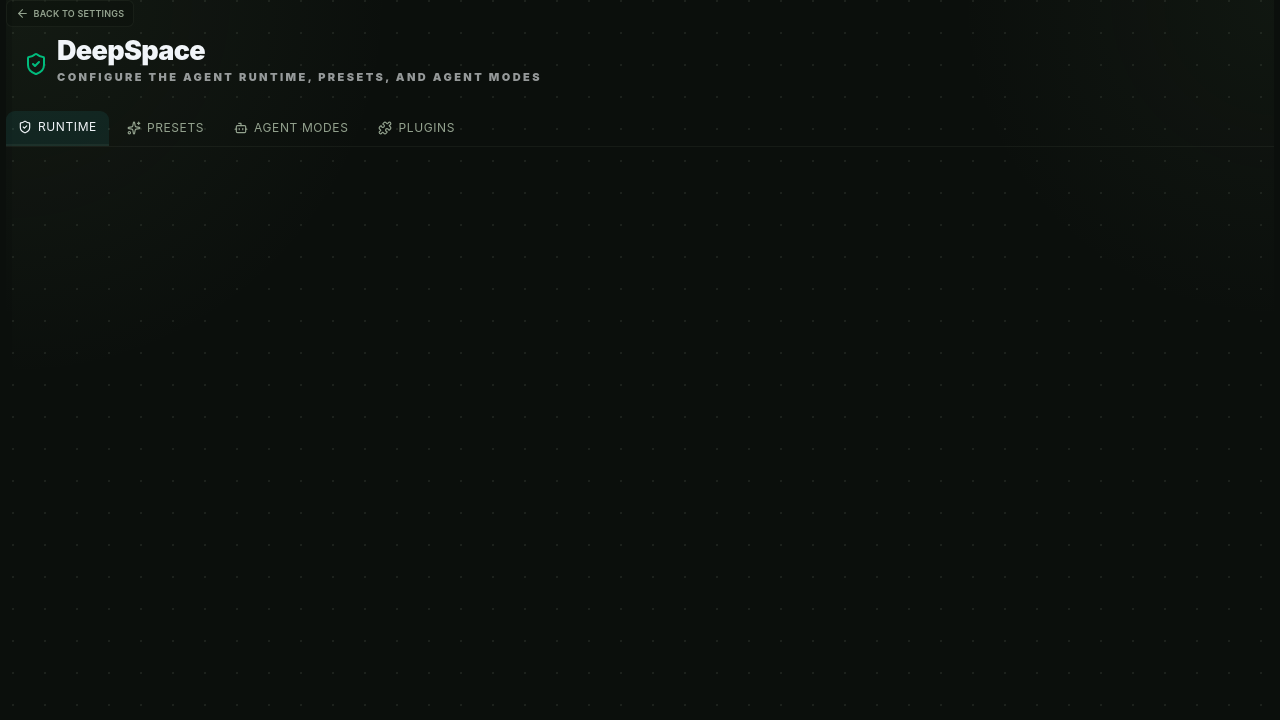
Scenario: DeepSpace settings visual states › keeps mode labels in the row and exposes compact accessible toggles
Click the tab "Agent Modes".
click(291, 128)  # box [222, 110, 360, 146]
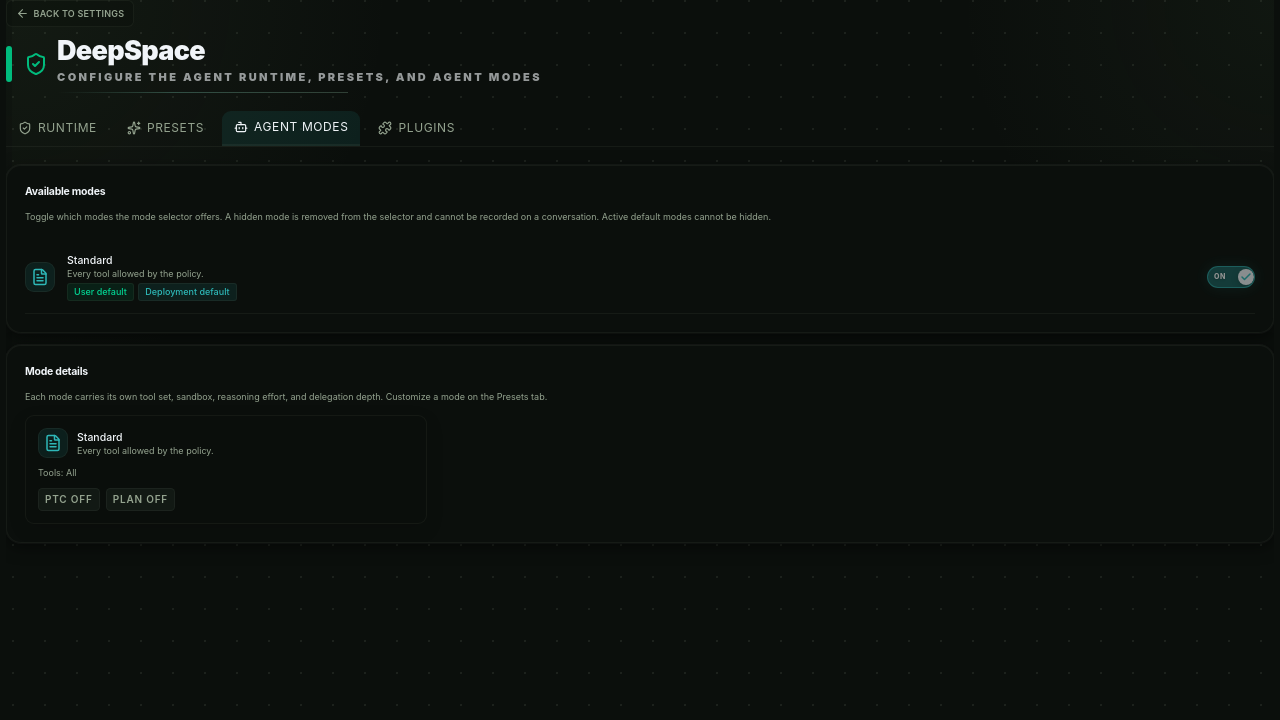
Now the heading "Available modes" is shown, box [25, 184, 105, 198]
Now the switch named "Standard" is shown, box [1207, 266, 1255, 288]
Now the text "Deployment default" is shown, box [138, 282, 237, 301]
